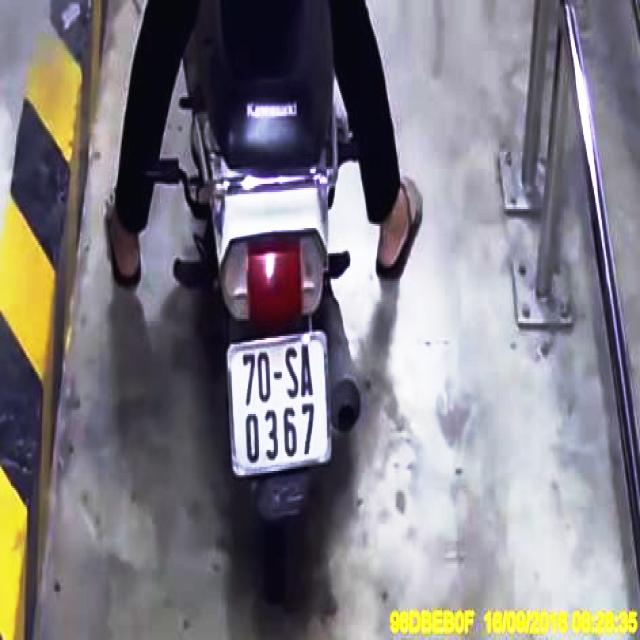license_plate: (234, 337, 332, 471)
